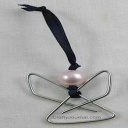Metal: (14, 66, 128, 128)
